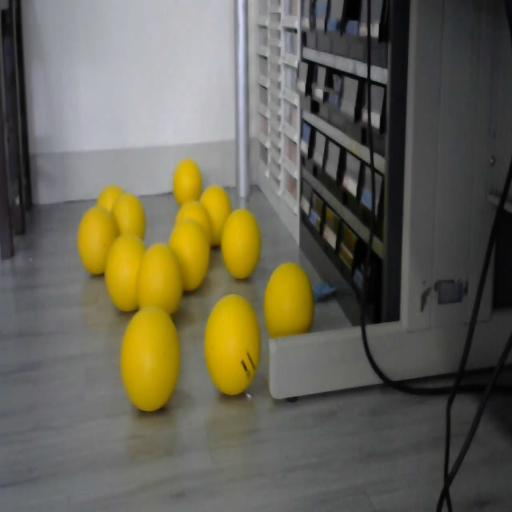FUEL: (119, 304, 180, 410), (203, 292, 262, 395), (263, 262, 313, 339), (104, 233, 146, 311), (169, 217, 211, 291), (220, 208, 262, 280), (200, 185, 232, 247), (112, 192, 146, 241), (173, 159, 202, 206)
